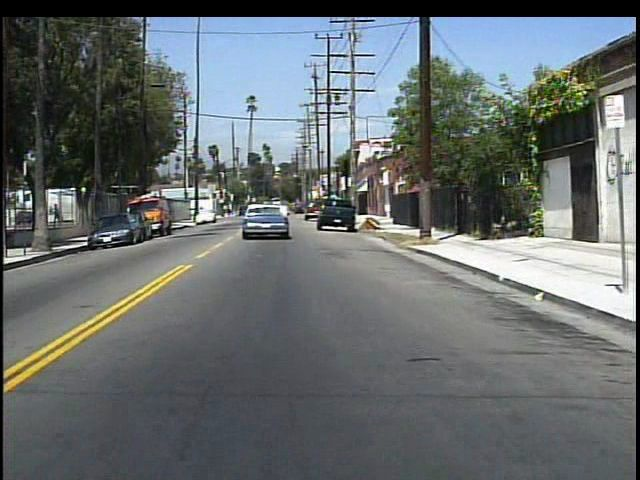person: (53, 199, 66, 228)
